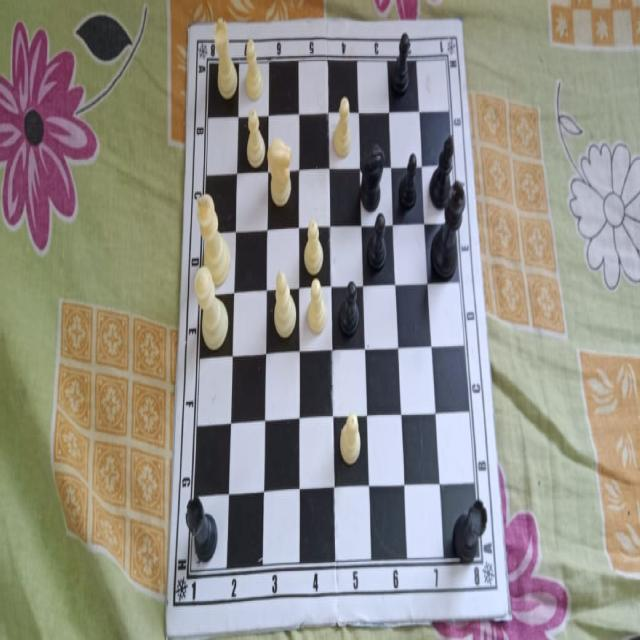corners: (186, 18, 195, 35), (505, 608, 512, 628), (456, 13, 464, 30), (164, 626, 173, 640)
